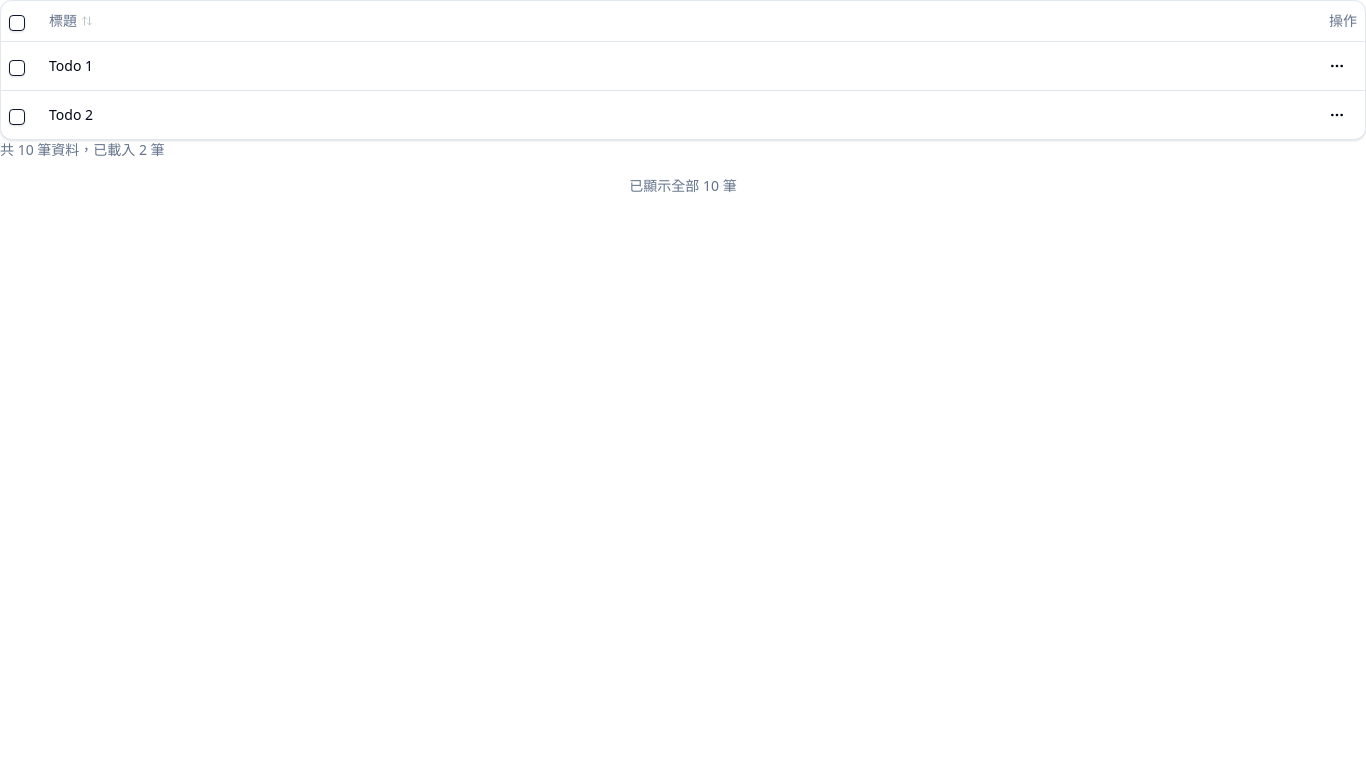
Sprint B5 — CrudListClient Toolbar 整合 › 點擊「批次刪除」打開 BatchDeleteDialog
The image size is (1366, 768).
Click the checkbox with test id "row-checkbox" at (17, 68), box 9,60 -> 25,76
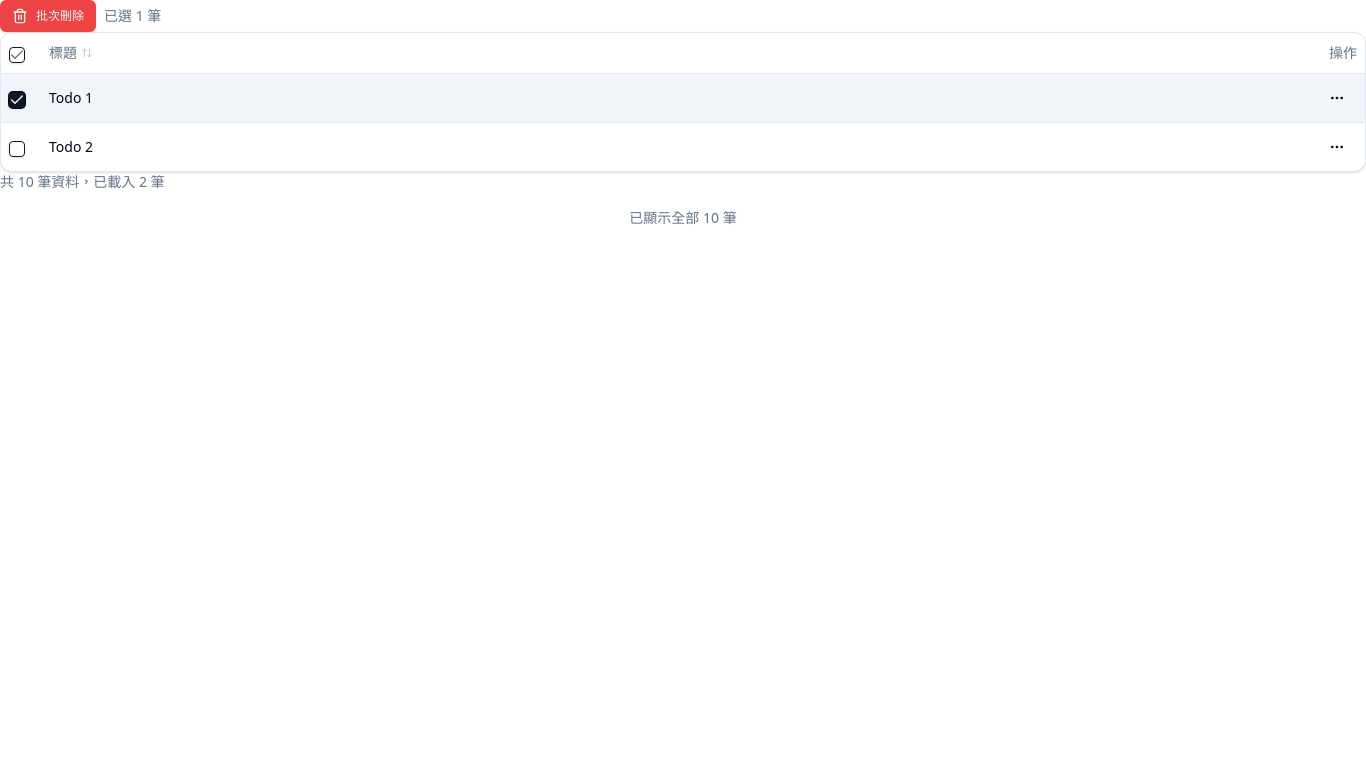
Click the button with test id "batch-delete-button" at (48, 16), box 0,0 -> 96,32
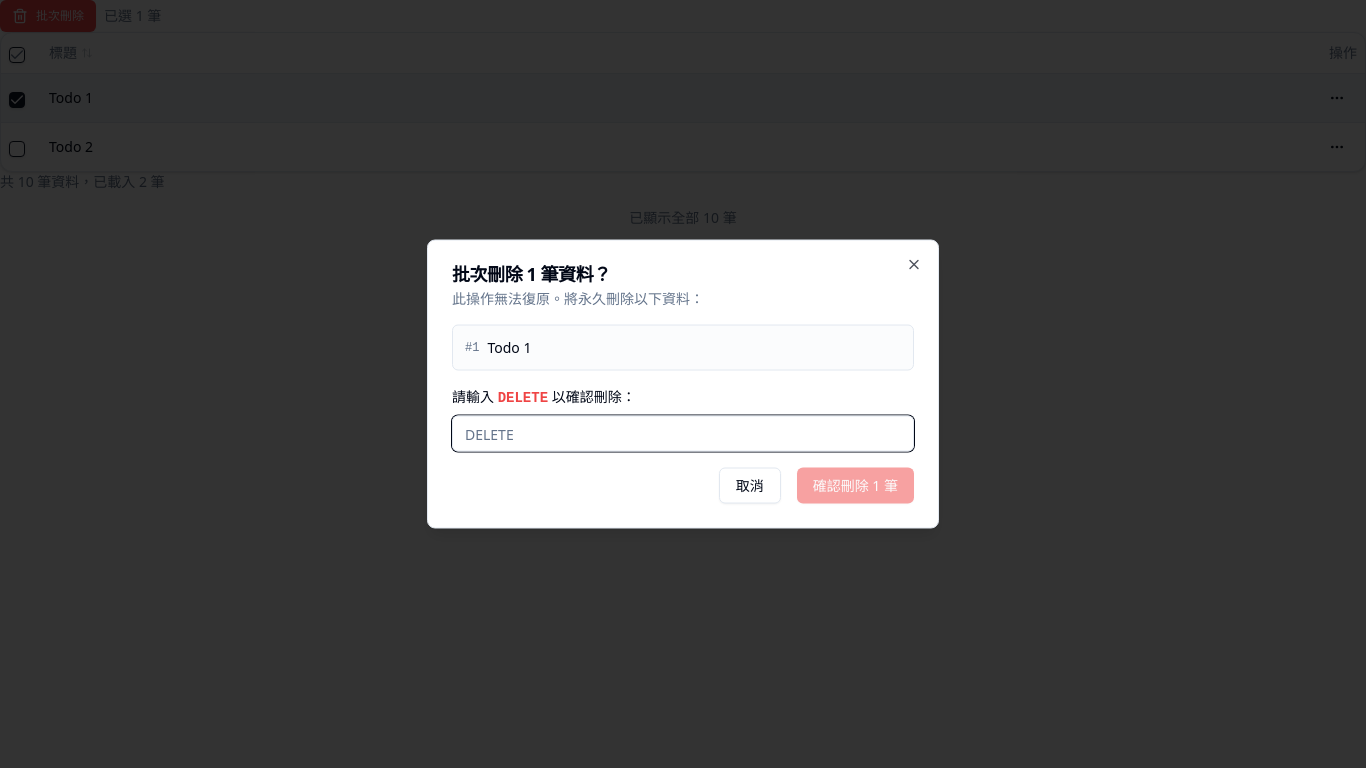
Result: the field with test id "delete-confirm-input" is shown at 452,416 -> 914,452
